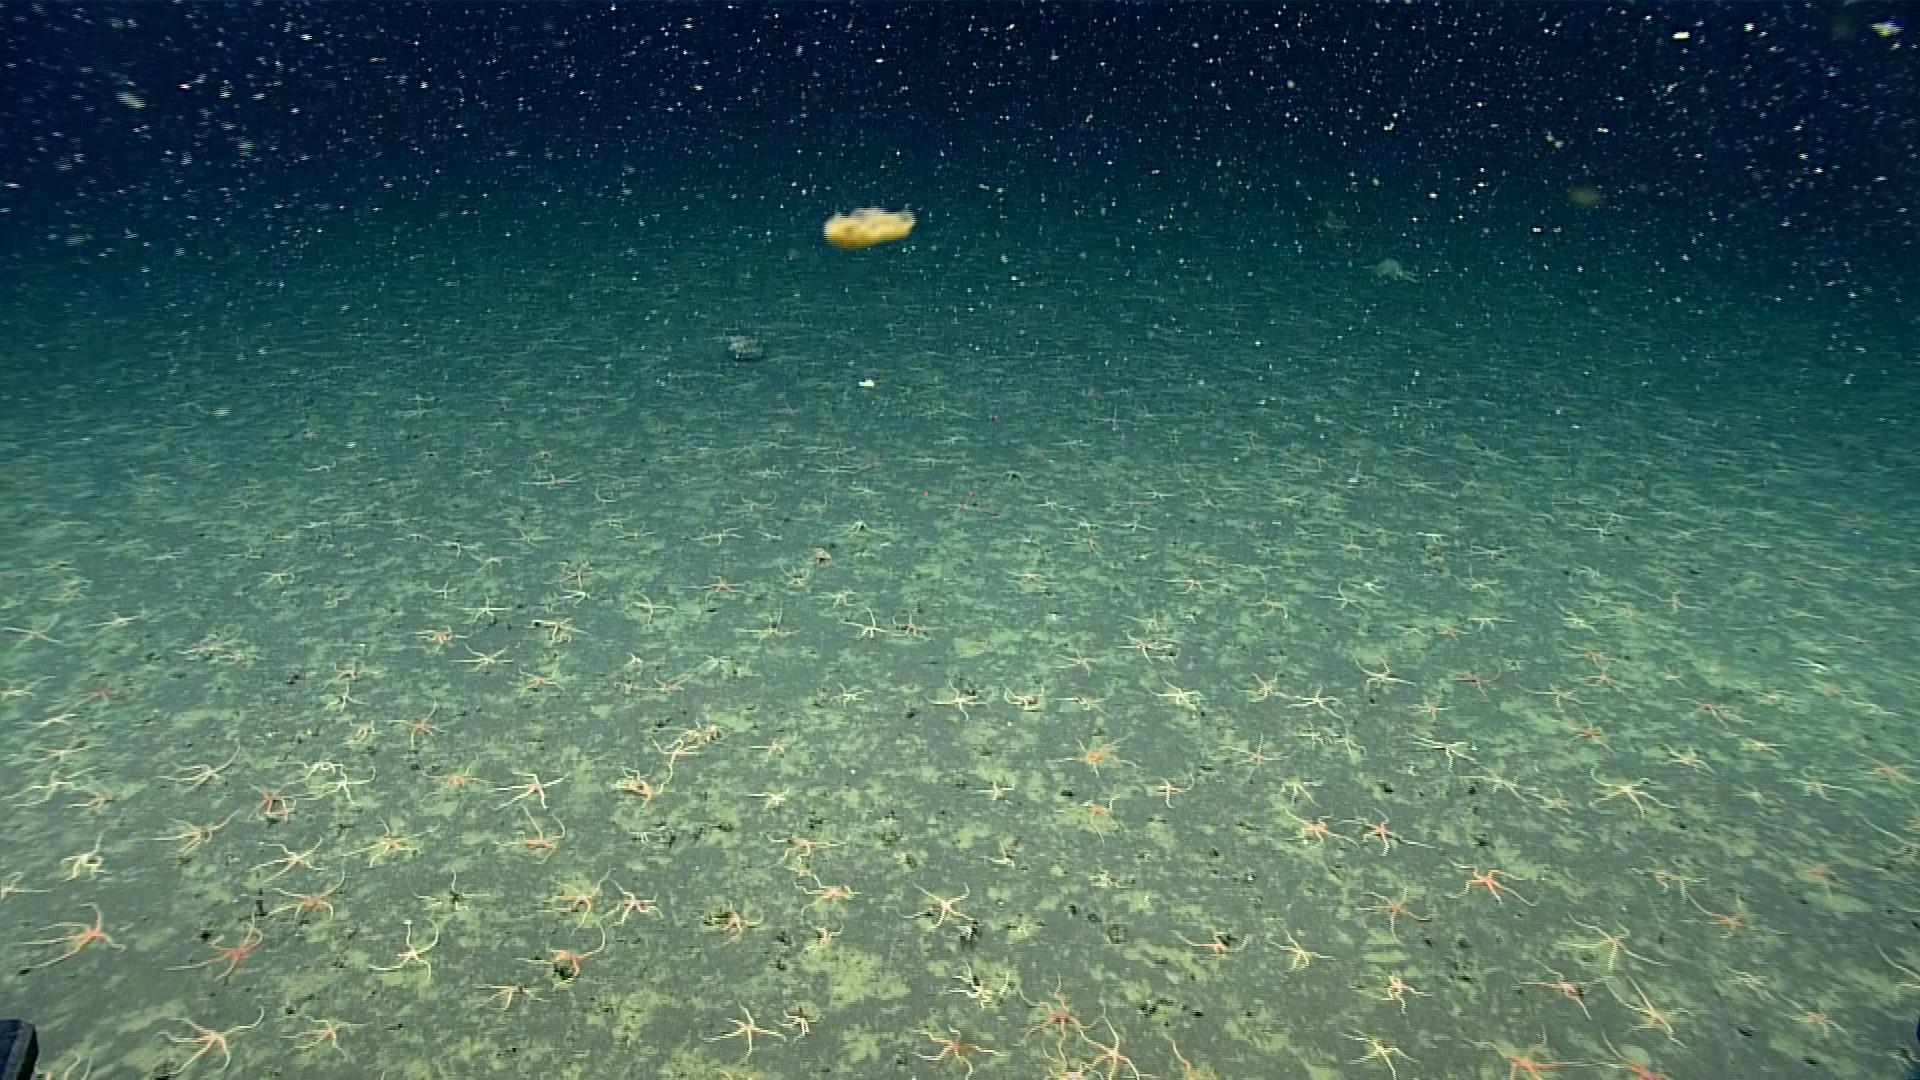brittle_sea_star: (7, 899, 125, 969), (1017, 975, 1108, 1058), (162, 906, 262, 980), (156, 1004, 265, 1071), (1567, 911, 1669, 980), (1604, 972, 1689, 1054), (1520, 957, 1609, 1022), (1680, 890, 1779, 943), (518, 928, 608, 985), (699, 1004, 789, 1060), (1, 764, 103, 812), (145, 806, 239, 857), (340, 818, 431, 869), (1338, 1023, 1419, 1079), (909, 1022, 1000, 1071), (1585, 767, 1676, 816), (1445, 858, 1534, 909), (369, 920, 440, 978), (899, 880, 976, 932), (1472, 1031, 1556, 1079), (537, 869, 604, 927), (1357, 886, 1431, 939), (262, 880, 342, 928), (496, 806, 566, 860), (1598, 1029, 1673, 1079), (410, 868, 488, 915), (1081, 1014, 1138, 1079), (285, 1013, 368, 1056), (380, 702, 455, 749), (160, 750, 245, 791), (1269, 922, 1333, 976), (1779, 992, 1850, 1040), (1407, 728, 1480, 774), (1460, 761, 1534, 806), (1059, 735, 1139, 775), (491, 765, 567, 807), (1354, 814, 1428, 856), (1282, 807, 1353, 851), (601, 880, 665, 928), (756, 833, 839, 870), (257, 835, 330, 877), (1366, 969, 1432, 1015), (303, 765, 377, 806), (1630, 855, 1706, 893), (409, 760, 483, 799), (943, 961, 1004, 1007), (699, 905, 762, 948), (1171, 924, 1253, 957), (1221, 733, 1286, 774), (59, 833, 115, 881), (790, 874, 858, 913), (471, 975, 543, 1010), (1676, 694, 1741, 732), (1075, 793, 1124, 843), (924, 679, 984, 720), (16, 735, 99, 764), (1556, 709, 1613, 752), (452, 591, 518, 626), (1354, 658, 1415, 696), (1783, 770, 1855, 802), (688, 570, 752, 605), (3, 612, 61, 649), (1156, 1029, 1199, 1079), (447, 642, 513, 674), (405, 621, 468, 654), (1240, 666, 1308, 696), (1859, 750, 1917, 786), (1720, 959, 1768, 1001), (244, 783, 295, 823), (1867, 815, 1919, 855), (738, 609, 798, 644), (1445, 665, 1503, 699), (1527, 682, 1596, 711), (1036, 1039, 1087, 1079), (1793, 862, 1844, 902), (609, 765, 662, 802), (32, 1052, 102, 1079), (620, 589, 675, 622), (1880, 947, 1919, 994), (1147, 679, 1201, 712), (510, 662, 562, 696), (845, 605, 890, 642), (1287, 684, 1341, 715), (1127, 601, 1179, 633), (666, 720, 727, 746), (1274, 773, 1324, 804), (644, 732, 700, 760), (527, 616, 584, 644), (997, 562, 1056, 588), (886, 611, 938, 640), (1328, 530, 1379, 559), (553, 582, 604, 611), (316, 683, 365, 713), (87, 609, 140, 637), (1665, 744, 1713, 774), (1155, 572, 1216, 596), (1572, 640, 1615, 673), (69, 786, 123, 812), (0, 869, 49, 898), (1251, 588, 1292, 622), (1117, 633, 1163, 663), (16, 708, 80, 729), (1150, 777, 1195, 807), (1055, 531, 1106, 558), (1849, 696, 1902, 721), (778, 1006, 822, 1036), (1316, 583, 1360, 613), (1056, 513, 1102, 541), (1000, 683, 1043, 712), (514, 471, 580, 489), (1056, 690, 1110, 712), (1329, 732, 1367, 764), (293, 758, 343, 782), (1656, 589, 1704, 615), (1056, 649, 1101, 675), (1403, 698, 1456, 720), (173, 637, 219, 662), (720, 493, 777, 512), (1532, 787, 1572, 814), (1448, 568, 1494, 591), (314, 661, 363, 682), (839, 513, 876, 541), (827, 682, 865, 708), (646, 675, 691, 698), (972, 781, 1019, 802), (1737, 736, 1787, 756), (1349, 568, 1385, 596), (462, 551, 514, 570), (984, 840, 1017, 869), (822, 584, 864, 607), (1114, 513, 1154, 537), (694, 524, 737, 545), (1733, 782, 1774, 804), (807, 919, 841, 945), (1590, 669, 1630, 691), (1762, 690, 1801, 712), (344, 716, 377, 742), (750, 789, 791, 810), (1134, 479, 1175, 500), (1431, 620, 1466, 644), (800, 541, 836, 564), (1465, 613, 1514, 630), (1298, 724, 1329, 750), (1784, 601, 1824, 622), (79, 683, 117, 704), (1466, 541, 1510, 559), (216, 644, 253, 665), (138, 546, 185, 562), (781, 564, 810, 589), (1266, 489, 1308, 506), (753, 740, 786, 761), (553, 563, 585, 584), (1656, 663, 1687, 686), (258, 568, 298, 585), (845, 479, 885, 496), (1584, 524, 1622, 541), (423, 537, 469, 550), (624, 650, 651, 671), (612, 678, 637, 698), (427, 579, 455, 596), (595, 514, 626, 526), (1039, 496, 1060, 510)
